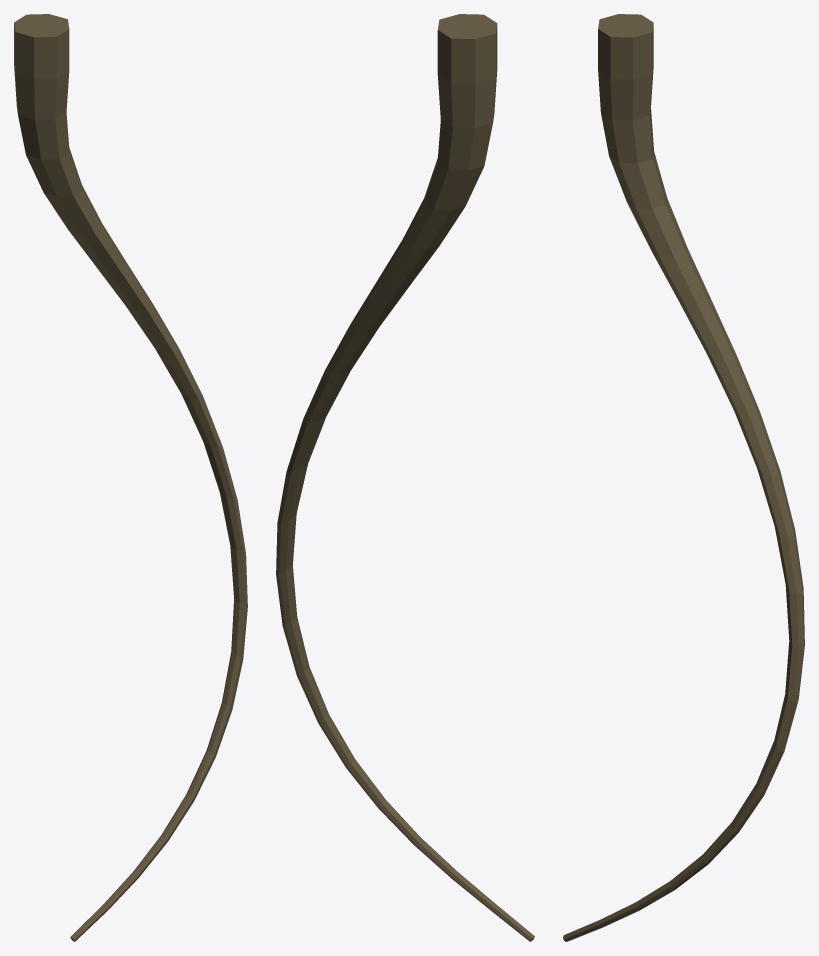
3 views of the same model, side by side, from view 1: azimuth 30°, elevation 25°; view 2: azimuth 150°, elevation 25°; view 3: azimuth 330°, elevation 25° (orthographic). The views are drawn at different scales.
Parts seen in each view (by area): view 1: Root.2.3; view 2: Root.2.3; view 3: Root.2.3.
Boxes of the visible parts, <box> form: Root.2.3: <box>14,14,247,941</box>; Root.2.3: <box>276,14,534,941</box>; Root.2.3: <box>563,14,804,941</box>.
Bounding box in the file's own units: 108 × 420 × 54.18.
